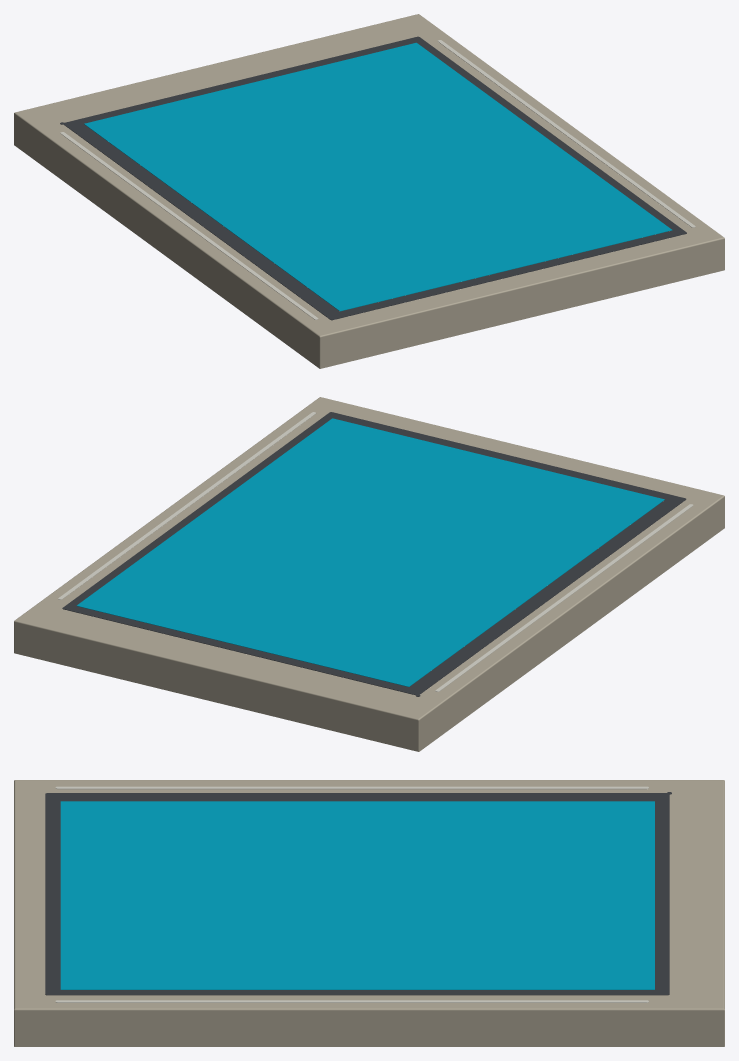
The model's file is kc-ea_edip320x-xxx.glb.
3 renders of one model, top to bottom at view 1: azimuth 30°, elevation 25°; view 2: azimuth 150°, elevation 25°; view 3: azimuth 270°, elevation 25°, orthographic. The views are drawn at different scales.
Visible parts, largest first — view 1: 0_0.3333333333333333_0.5_0, 0.4166666666666667_0.4166666666666667_0.3333333333333333_0, 0.08333333333333333_0.08333333333333333_0.08333333333333333_, 0.6666666666666666_0.6666666666666666_0.5833333333333334_0.8; view 2: 0_0.3333333333333333_0.5_0, 0.4166666666666667_0.4166666666666667_0.3333333333333333_0, 0.08333333333333333_0.08333333333333333_0.08333333333333333_, 0.6666666666666666_0.6666666666666666_0.5833333333333334_0.8; view 3: 0_0.3333333333333333_0.5_0, 0.4166666666666667_0.4166666666666667_0.3333333333333333_0, 0.08333333333333333_0.08333333333333333_0.08333333333333333_, 0.6666666666666666_0.6666666666666666_0.5833333333333334_0.8.
Boxes of the visible parts, x1,y1,x2,y2 form: 0_0.3333333333333333_0.5_0: (84, 42, 672, 311); 0.4166666666666667_0.4166666666666667_0.3333333333333333_0: (14, 14, 724, 368); 0.08333333333333333_0.08333333333333333_0.08333333333333333_: (60, 36, 686, 320); 0.6666666666666666_0.6666666666666666_0.5833333333333334_0.8: (60, 40, 695, 319); 0_0.3333333333333333_0.5_0: (76, 418, 664, 686); 0.4166666666666667_0.4166666666666667_0.3333333333333333_0: (14, 397, 724, 751); 0.08333333333333333_0.08333333333333333_0.08333333333333333_: (62, 412, 686, 696); 0.6666666666666666_0.6666666666666666_0.5833333333333334_0.8: (58, 412, 693, 691); 0_0.3333333333333333_0.5_0: (60, 801, 654, 989); 0.4166666666666667_0.4166666666666667_0.3333333333333333_0: (14, 780, 724, 1046); 0.08333333333333333_0.08333333333333333_0.08333333333333333_: (45, 792, 671, 995); 0.6666666666666666_0.6666666666666666_0.5833333333333334_0.8: (55, 786, 648, 1002).
Size of the model in its own units: 10.53 by 1.43 by 13.78.
